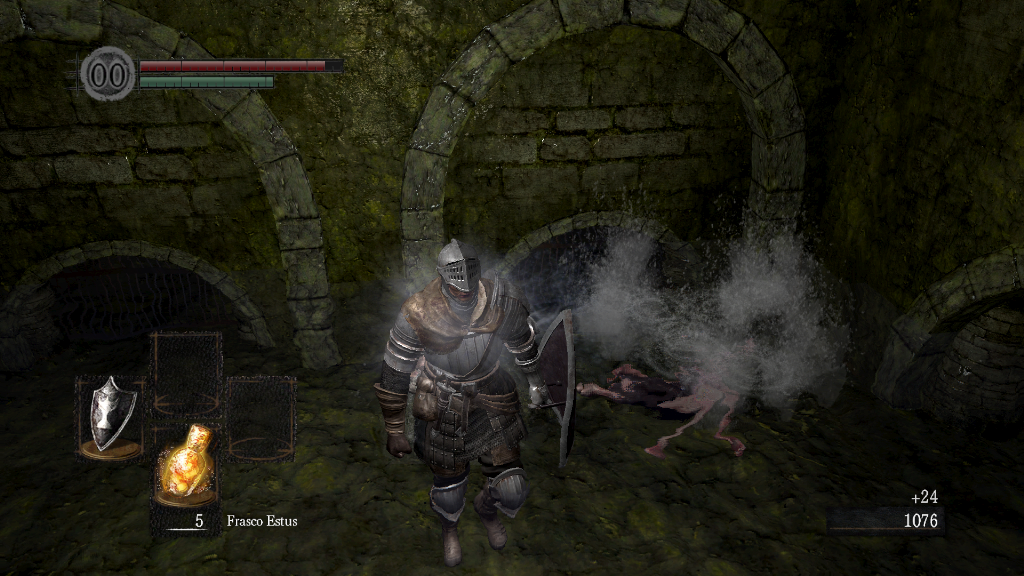health: (138, 58, 343, 71)
humanity: (80, 45, 136, 102)
player: (370, 239, 580, 567)
souls: (825, 506, 945, 536)
stamina: (138, 74, 274, 88)
